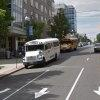Bus: (19, 35, 60, 68)
